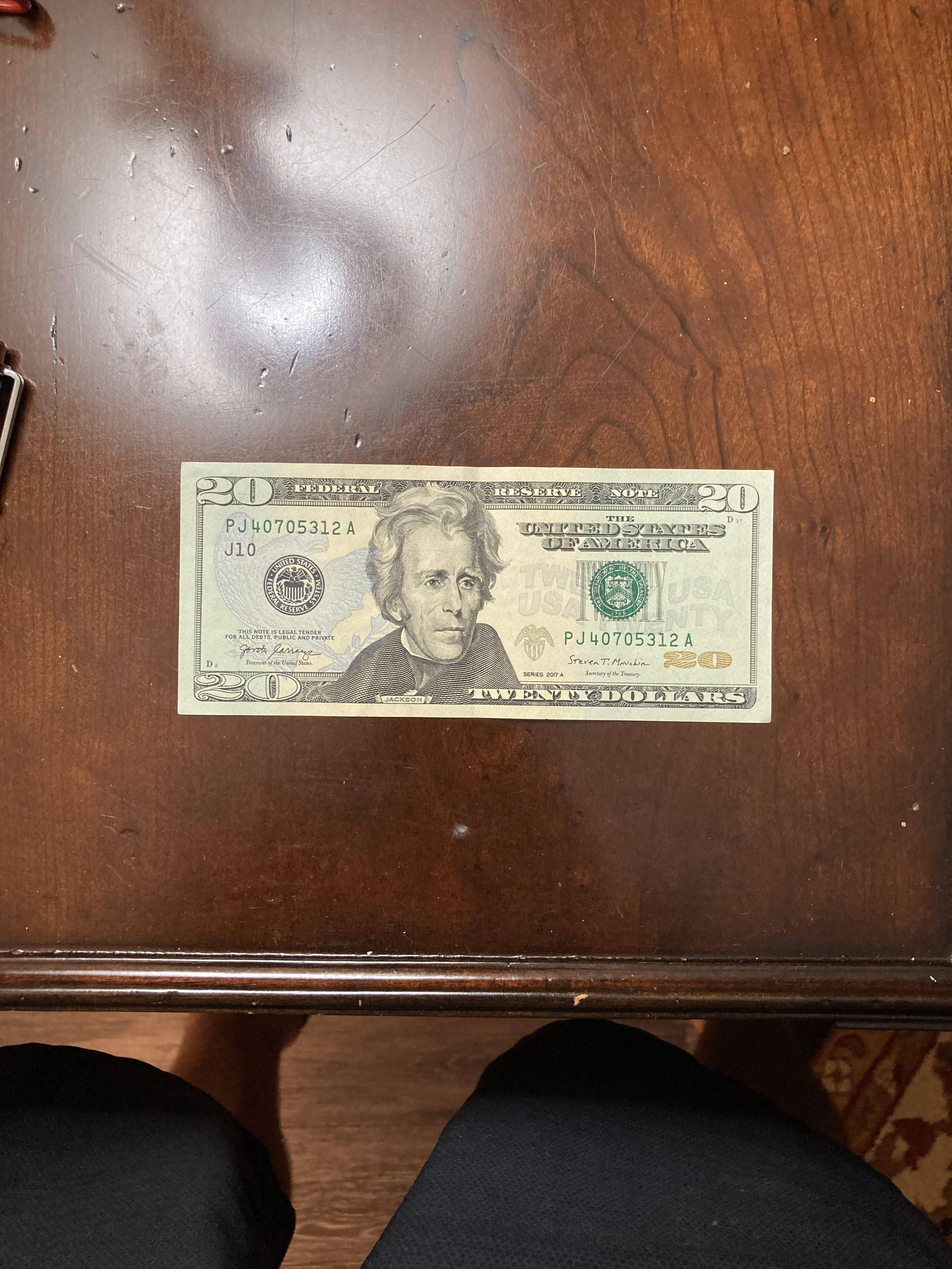twenty-front: (176, 462, 776, 725)
